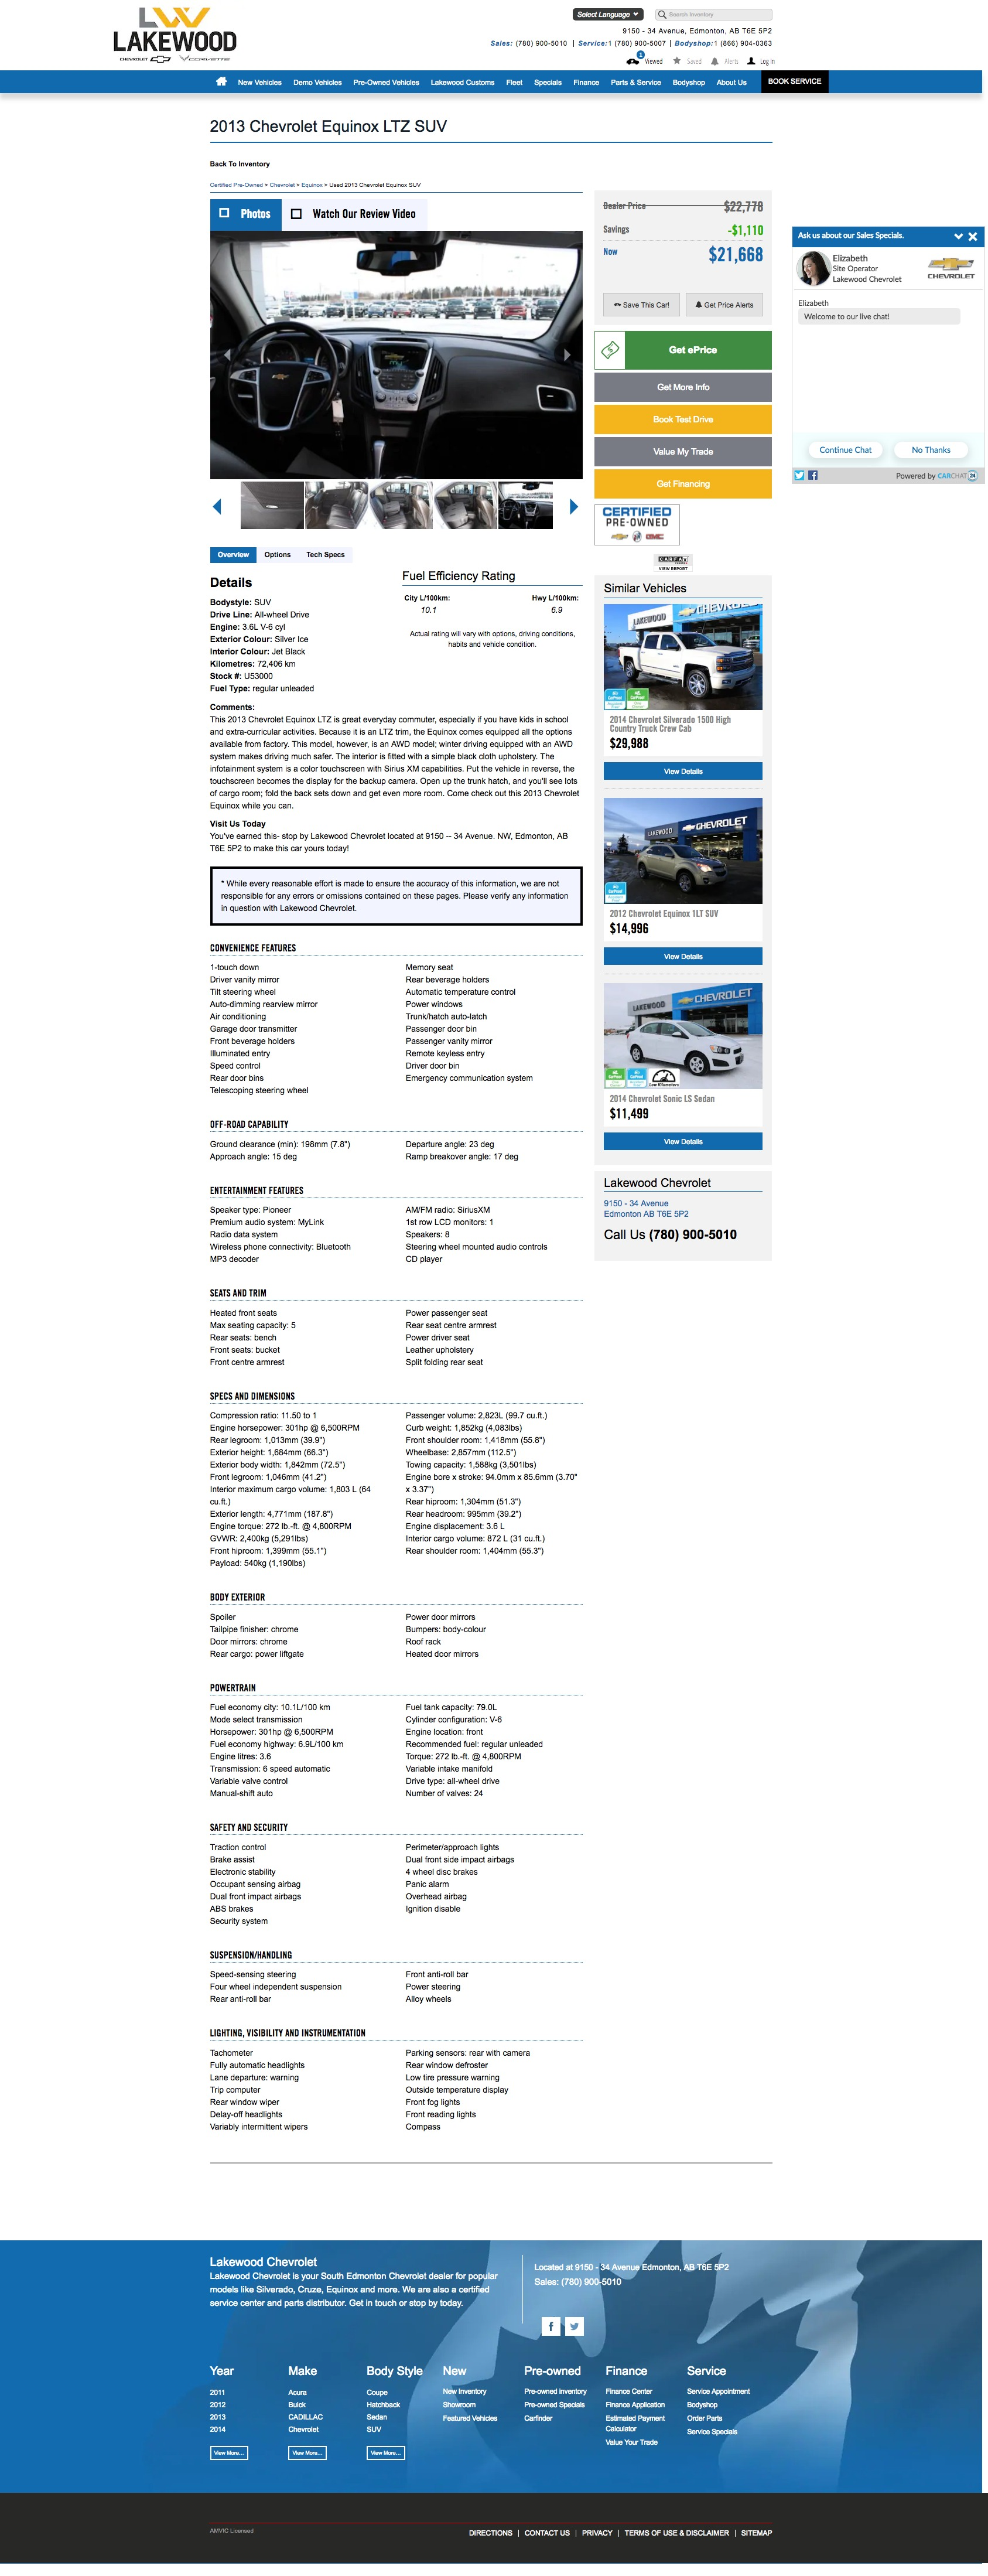car: (569, 498, 579, 516)
